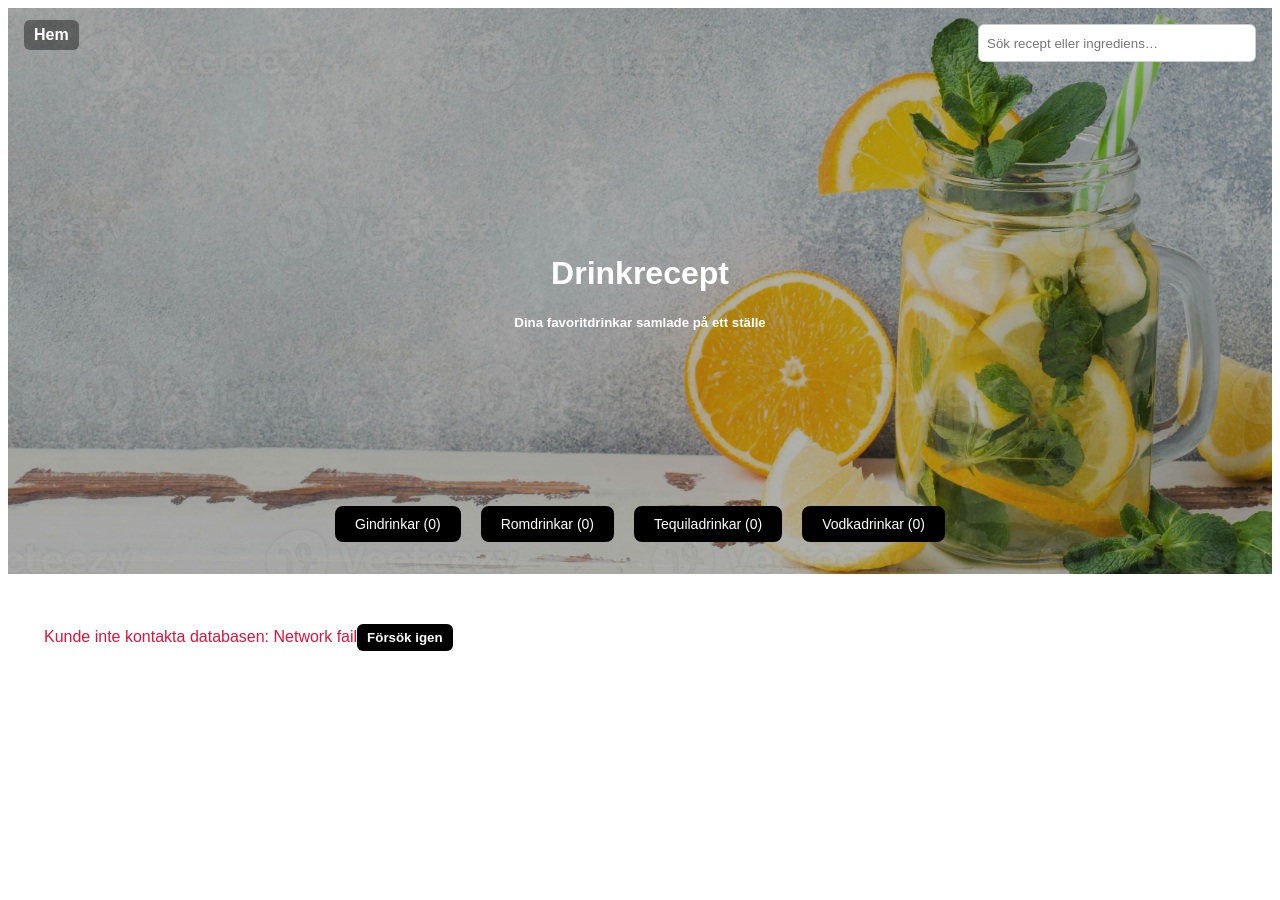
Startsida › shows retry button on load error and retries when clicked
Expected: the text "Kunde inte kontakta databasen: Network fail Försök igen" is shown, x1=44 y1=624 x2=453 y2=651
What coordinates should you click on to do the following:
click the button "Försök igen"
I would click on:
 (405, 637)
Its box is x1=357 y1=624 x2=453 y2=651.
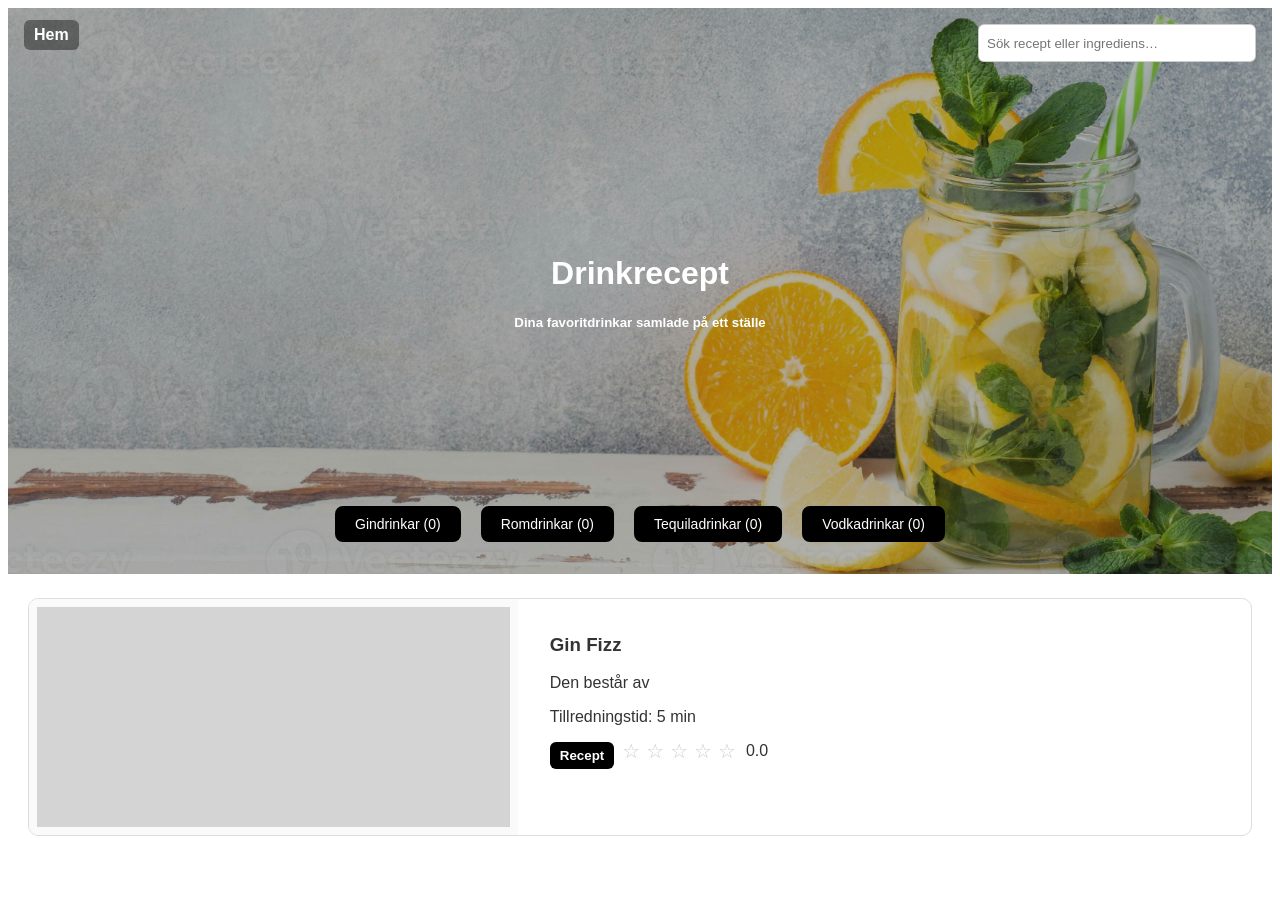
Expected: the heading "Gin Fizz" is shown, x1=550 y1=634 x2=622 y2=655
